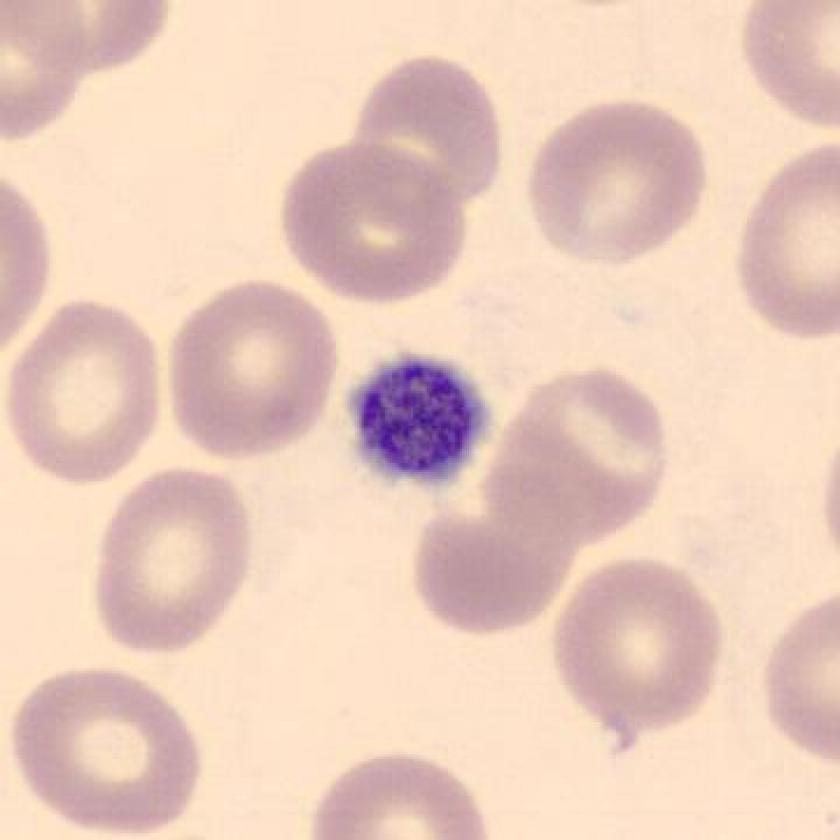platelets: (333, 341, 501, 496)
